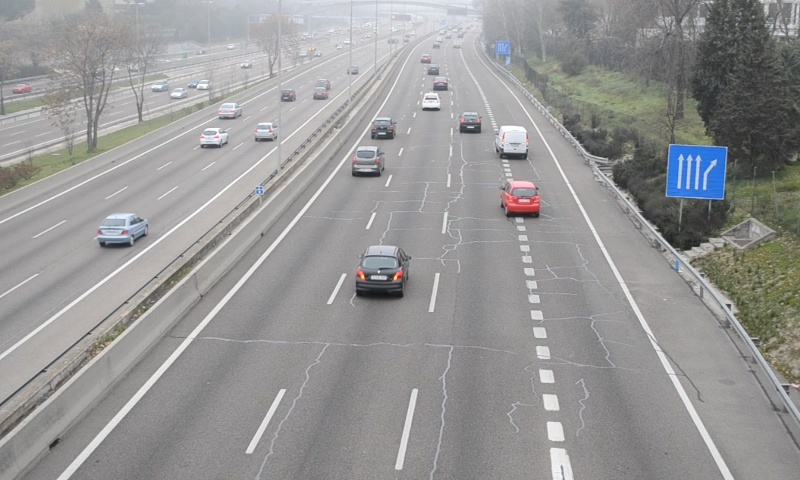car: (356, 246, 408, 295), (502, 179, 540, 215), (351, 146, 382, 174), (370, 117, 396, 142), (458, 111, 482, 134), (420, 90, 442, 111)
van: (496, 125, 529, 159)
